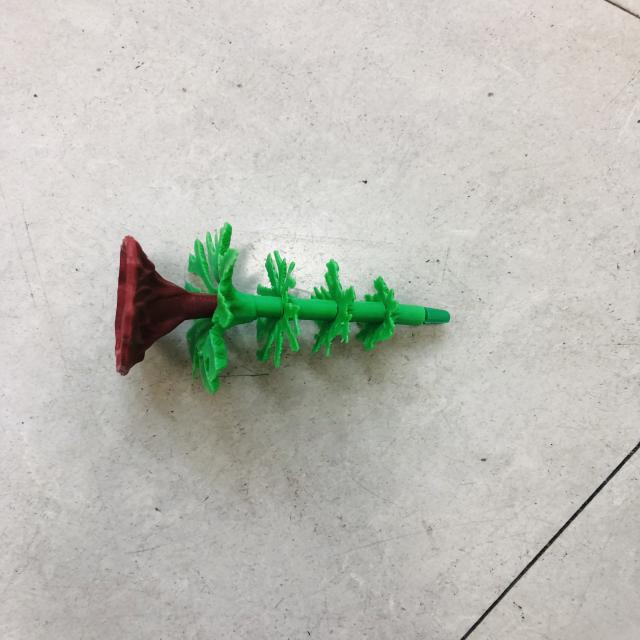tree: (92, 215, 475, 383)
